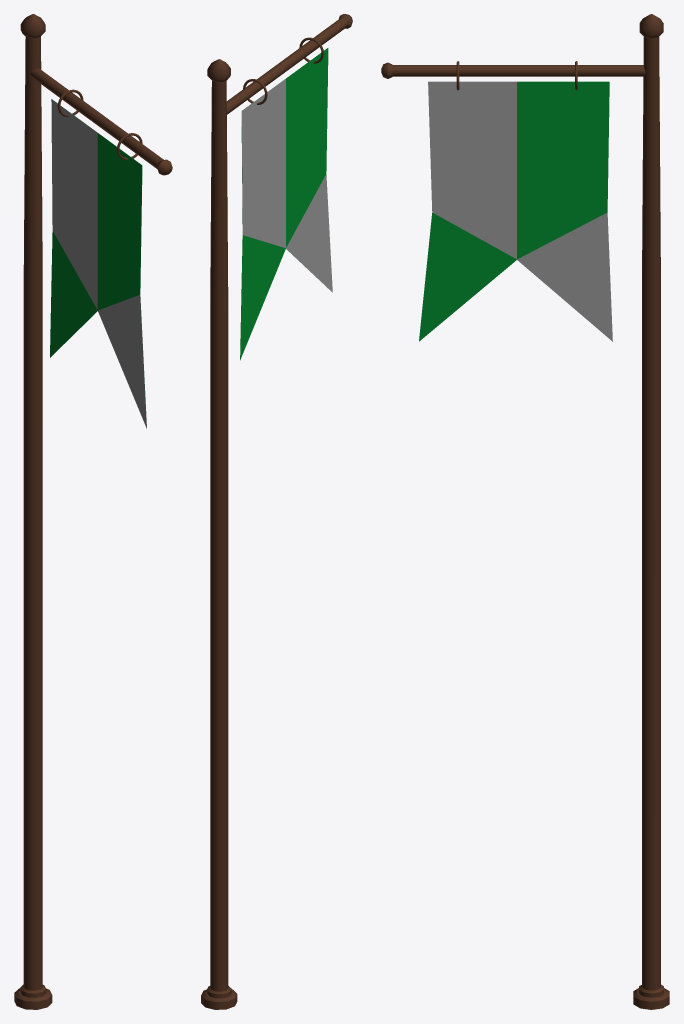
The model's file is Flag_green_white.obj.
3 renders of one model, left to right at view 1: azimuth 30°, elevation 25°; view 2: azimuth 150°, elevation 25°; view 3: azimuth 270°, elevation 25°, orthographic. The views are drawn at different scales.
Visible parts, largest first — view 1: Tube001, Box004, Box003, Box002, Tube002, ChamferCyl002, ChamferCyl003; view 2: Tube001, Box004, Box003, Box002, Tube002, ChamferCyl002, ChamferCyl003; view 3: Box004, Tube001, Box002, Box001, Tube002.
Boxes of the visible parts, x1=… form: Tube001: x1=23, y1=36, x2=42, y2=990; Box004: x1=51, y1=99, x2=146, y2=428; Box003: x1=50, y1=102, x2=142, y2=357; Box002: x1=50, y1=176, x2=142, y2=357; Tube002: x1=30, y1=68, x2=163, y2=168; ChamferCyl002: x1=14, y1=988, x2=52, y2=1009; ChamferCyl003: x1=20, y1=14, x2=45, y2=37; Tube001: x1=210, y1=80, x2=228, y2=991; Box004: x1=241, y1=79, x2=332, y2=292; Box003: x1=241, y1=48, x2=328, y2=247; Box002: x1=240, y1=235, x2=285, y2=360; Tube002: x1=226, y1=18, x2=347, y2=114; ChamferCyl002: x1=201, y1=989, x2=237, y2=1009; ChamferCyl003: x1=207, y1=59, x2=230, y2=82; Box004: x1=428, y1=81, x2=612, y2=341; Tube001: x1=642, y1=36, x2=660, y2=990; Box002: x1=517, y1=81, x2=609, y2=259; Box001: x1=419, y1=212, x2=516, y2=341; Tube002: x1=392, y1=65, x2=645, y2=76.
Bounding box in the file's own units: 2.58 × 73.53 × 19.44.
